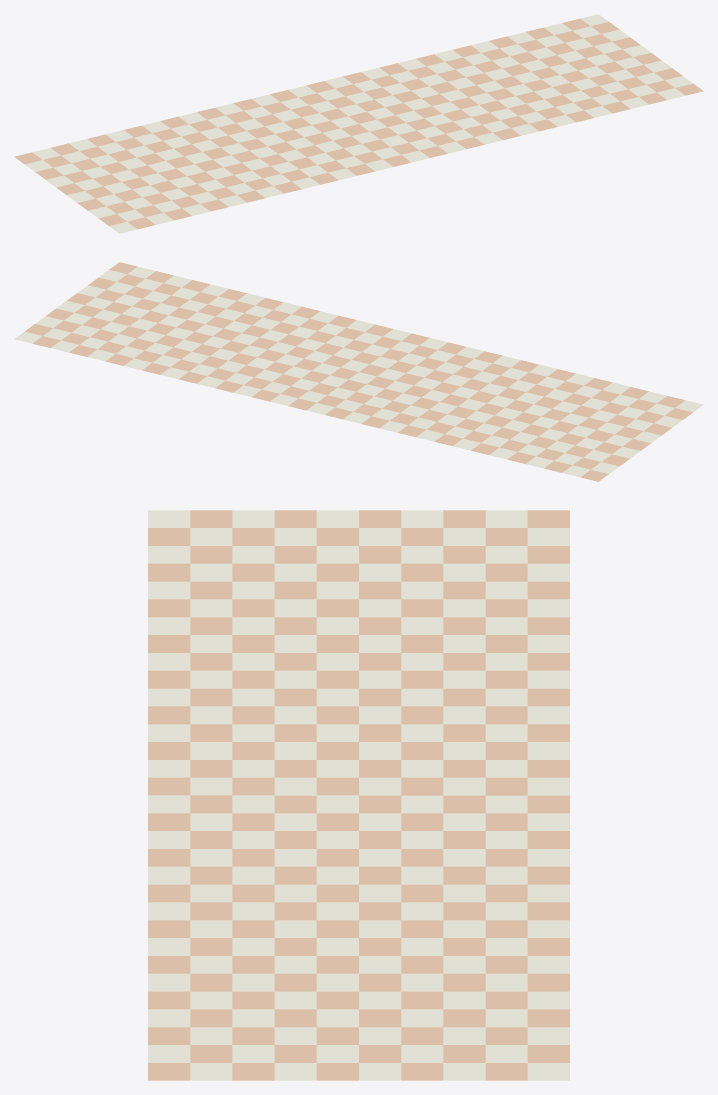
Rendered from floor2.fbx.
The picture shows the model from 3 angles, top to bottom: view 1: azimuth 30°, elevation 25°; view 2: azimuth 150°, elevation 25°; view 3: azimuth 270°, elevation 25°; orthographic projection. The views are drawn at different scales.
Visible parts, largest first — view 1: floor; view 2: floor; view 3: floor.
Boxes of the visible parts, bbox=[...] form: floor: bbox=[14, 14, 703, 233]; floor: bbox=[14, 262, 703, 481]; floor: bbox=[148, 510, 569, 1080].
Size of the model in its own units: 3200 by 0.000163 by 1000.
